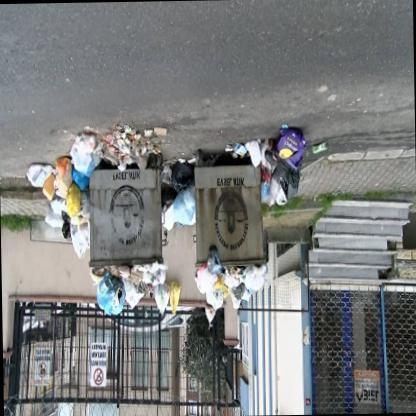Garbage: (26, 123, 90, 268), (262, 118, 317, 206), (102, 114, 172, 170), (92, 262, 164, 309), (195, 264, 269, 306), (274, 120, 312, 176), (111, 112, 146, 150), (27, 151, 54, 198), (95, 278, 125, 320), (173, 181, 194, 234), (204, 276, 230, 304), (222, 266, 248, 290), (194, 268, 216, 295), (247, 263, 269, 290), (156, 280, 172, 312), (206, 242, 221, 274), (172, 278, 182, 313), (205, 304, 217, 327)
